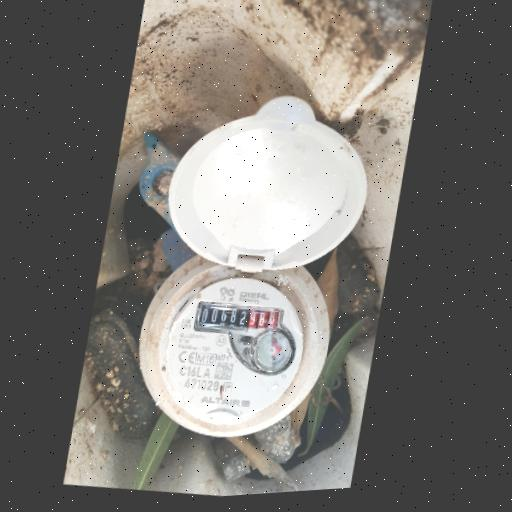0: (200, 305, 212, 325), (209, 306, 220, 325)
2: (237, 308, 251, 329)
6: (219, 306, 230, 326)
8: (226, 306, 240, 327), (257, 309, 268, 330), (267, 311, 278, 330)
9: (247, 308, 259, 328)
border_water_meter_number: (192, 295, 285, 346)
